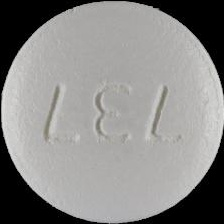61919-038: (0, 0, 224, 224)
